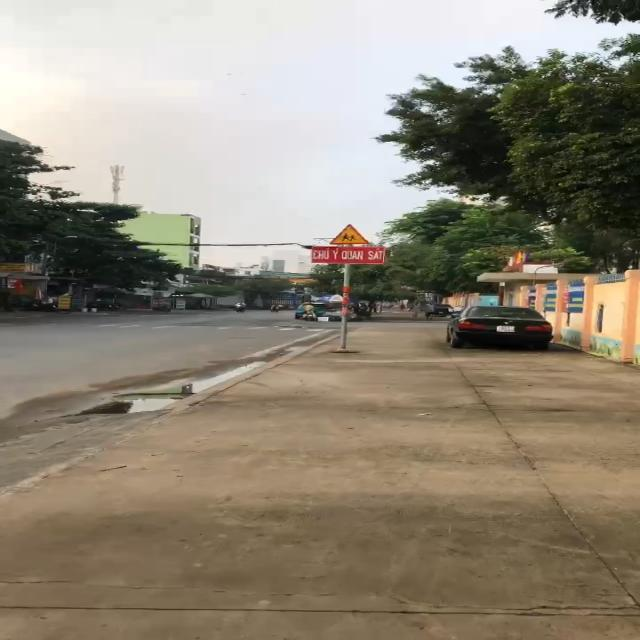Bien bao tre em: (327, 221, 372, 246)
